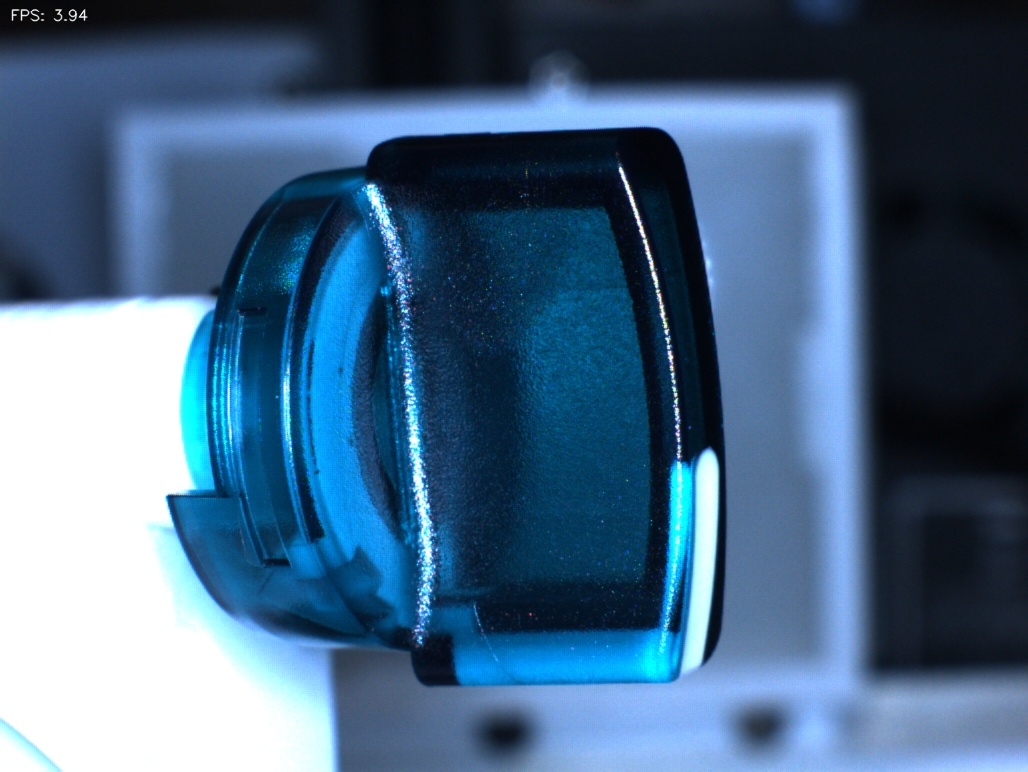PointNoir: (311, 336, 375, 401)
